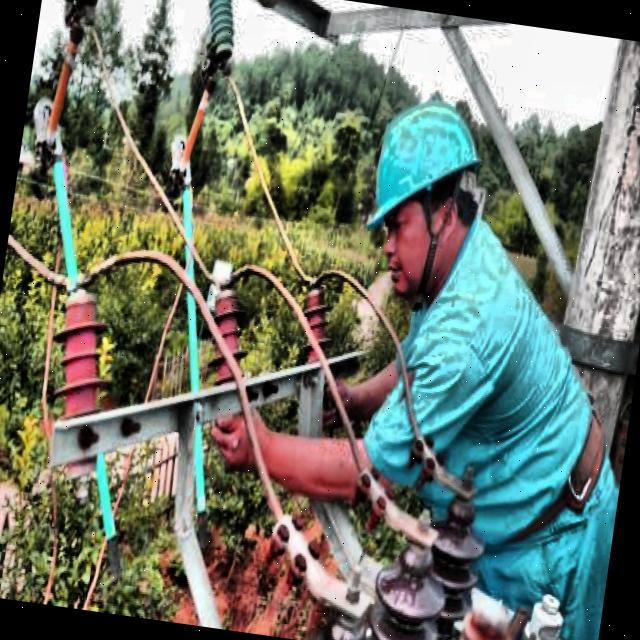helmet: (338, 73, 505, 312)
